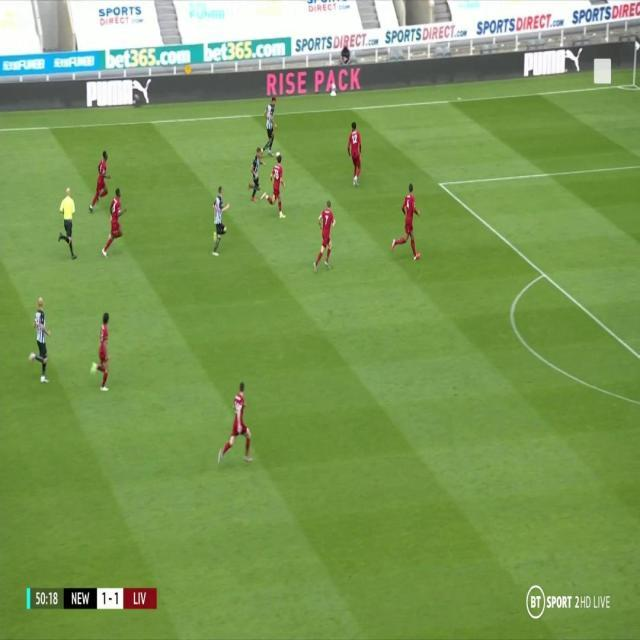ball: (273, 143, 284, 165)
player: (219, 381, 254, 470), (391, 186, 423, 260), (27, 297, 53, 386), (313, 200, 338, 277), (102, 190, 128, 259), (91, 313, 113, 393), (88, 150, 112, 217), (209, 185, 231, 258), (266, 152, 288, 219), (262, 92, 281, 156), (347, 121, 365, 188), (248, 145, 267, 203)
referee: (58, 186, 78, 264)
